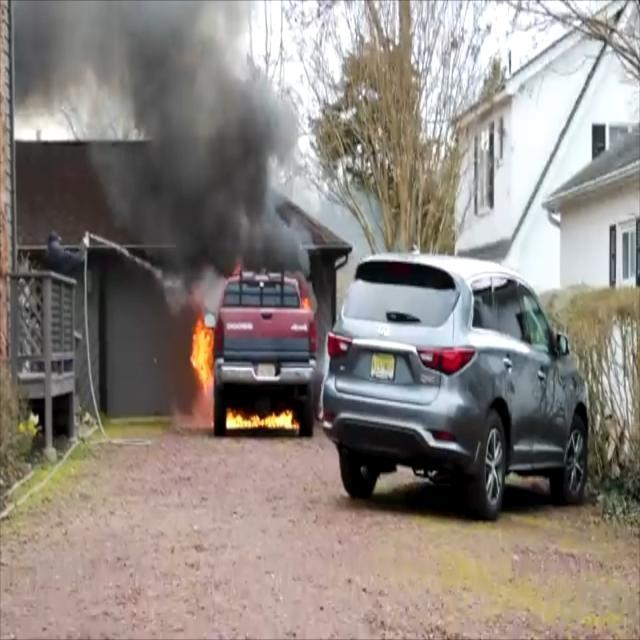fire: (186, 292, 223, 419), (220, 402, 304, 430)
